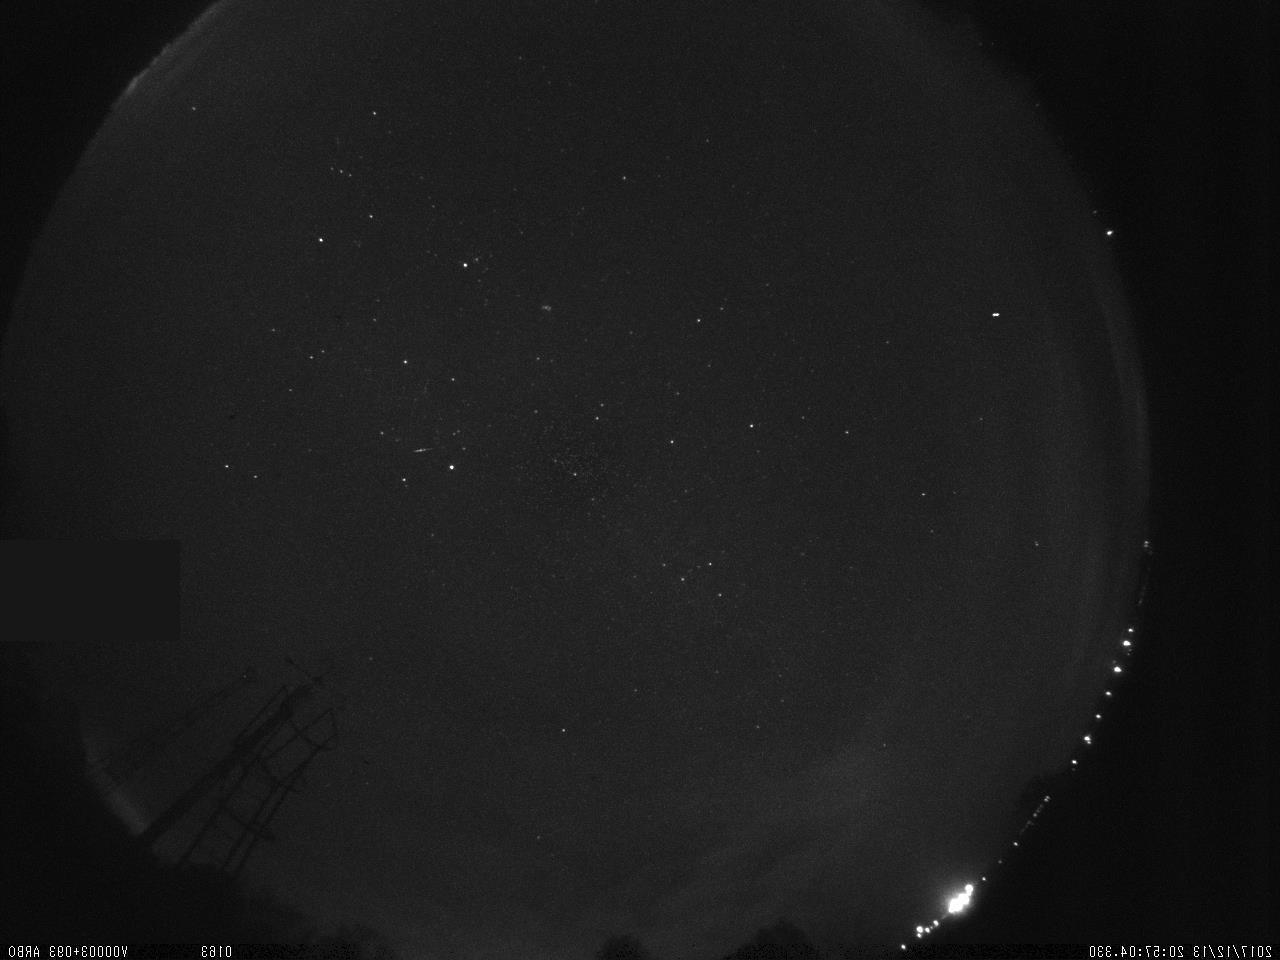meteor: (409, 442, 438, 457)
